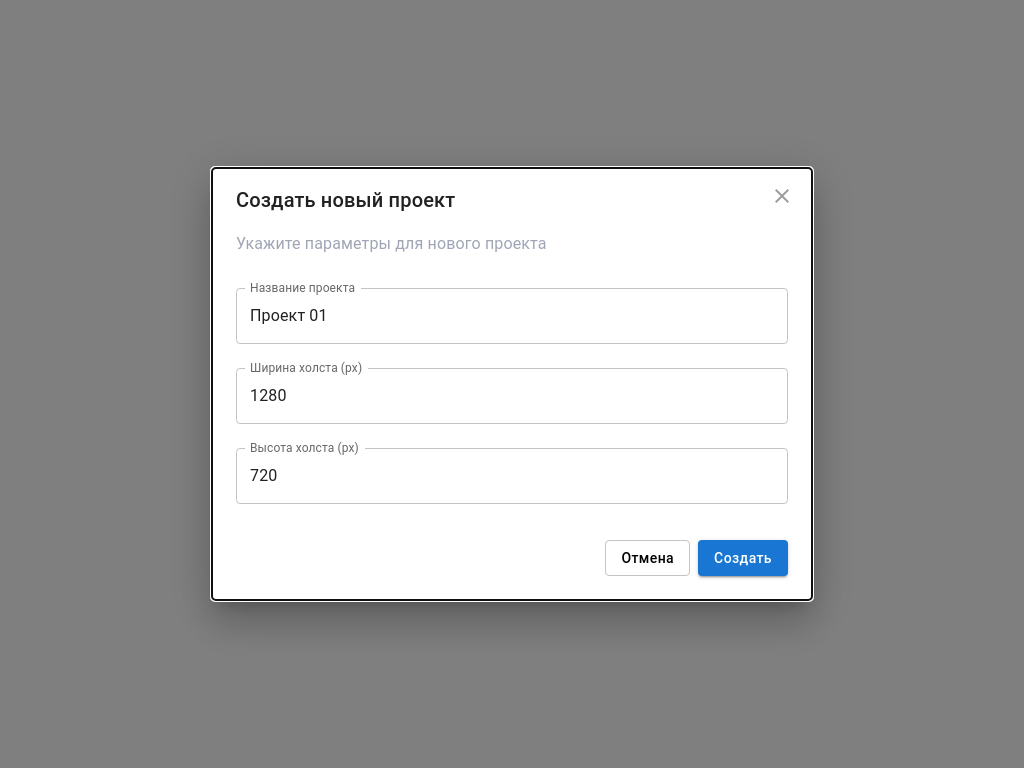
Test: Modal Component - Integration › prevents duplicate project creation with same name
Replace the text in the field labelled "Название проекта" with "Testing" at (512, 316), box x1=236 y1=288 x2=788 y2=344
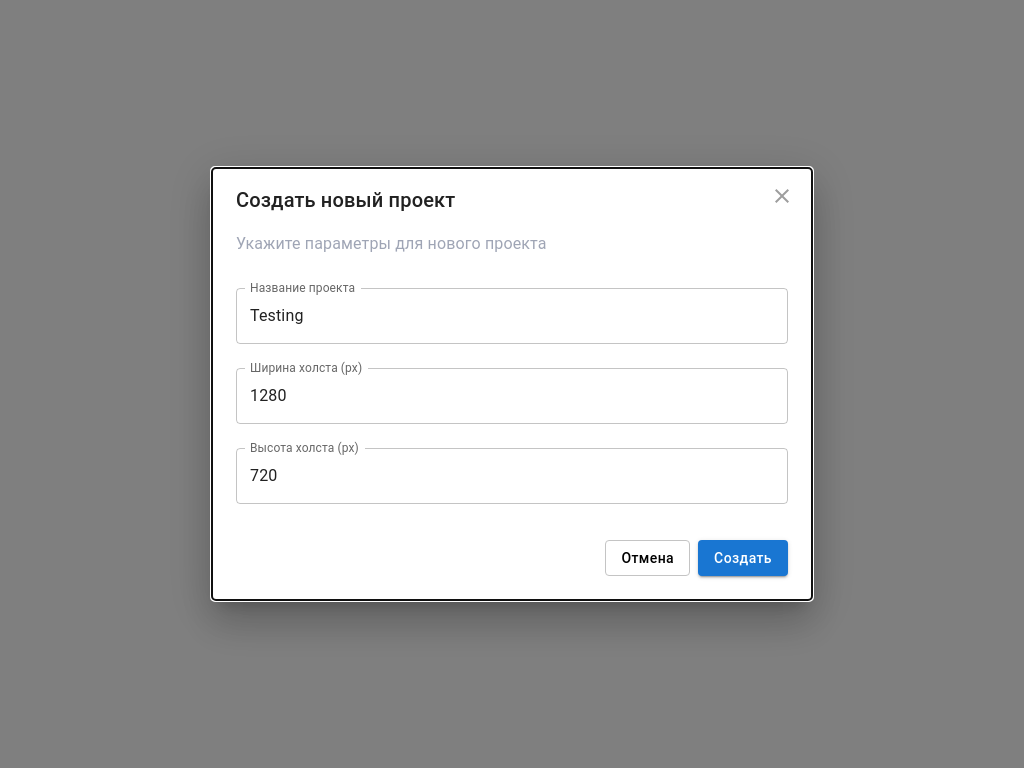
Replace the text in the number field labelled "Ширина холста (px)" with "500" at (512, 396), box x1=236 y1=368 x2=788 y2=424
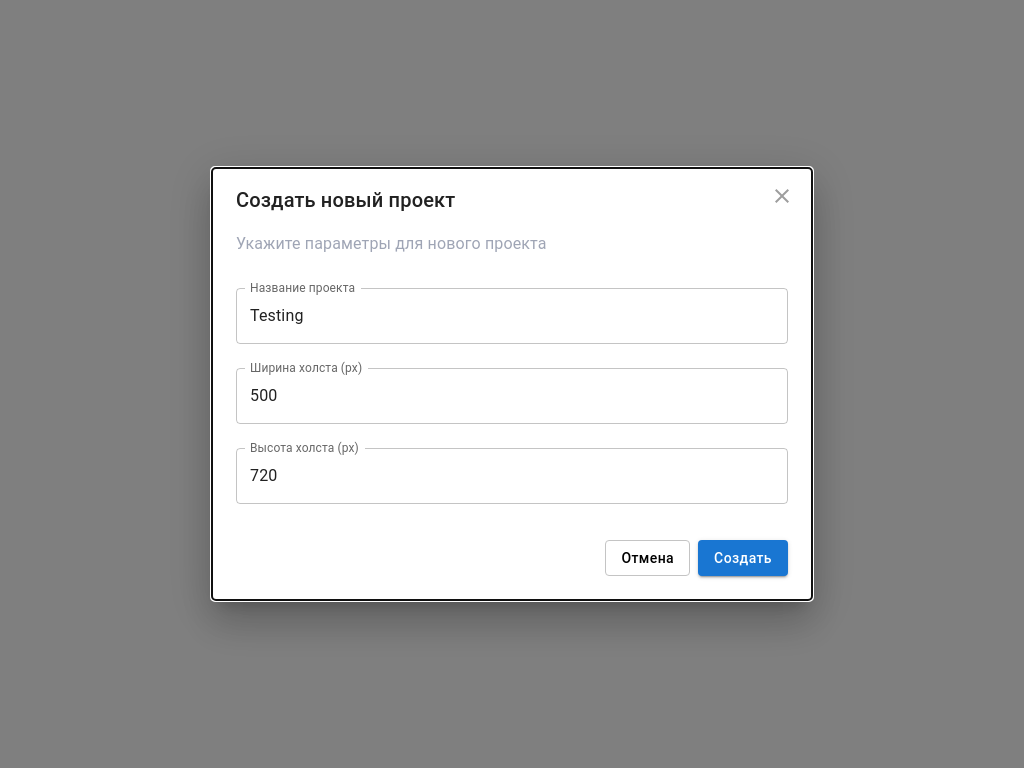
Replace the text in the number field labelled "Высота холста (px)" with "700" at (512, 476), box x1=236 y1=448 x2=788 y2=504
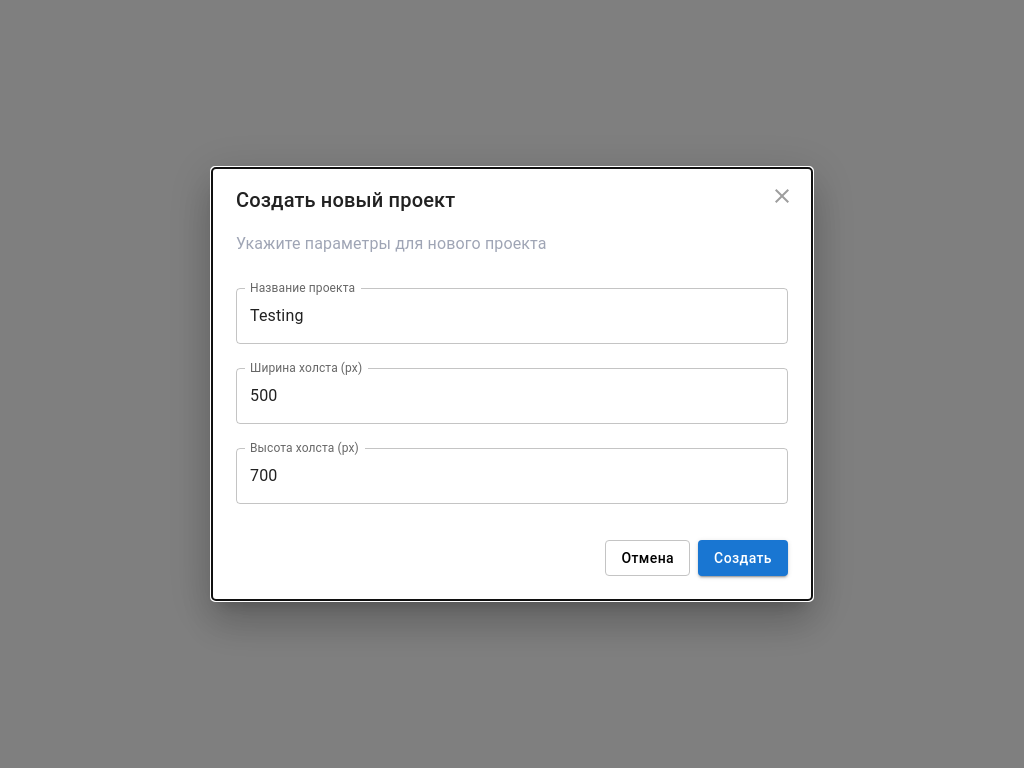
Click the button "Создать" at (743, 558), box x1=698 y1=540 x2=788 y2=576
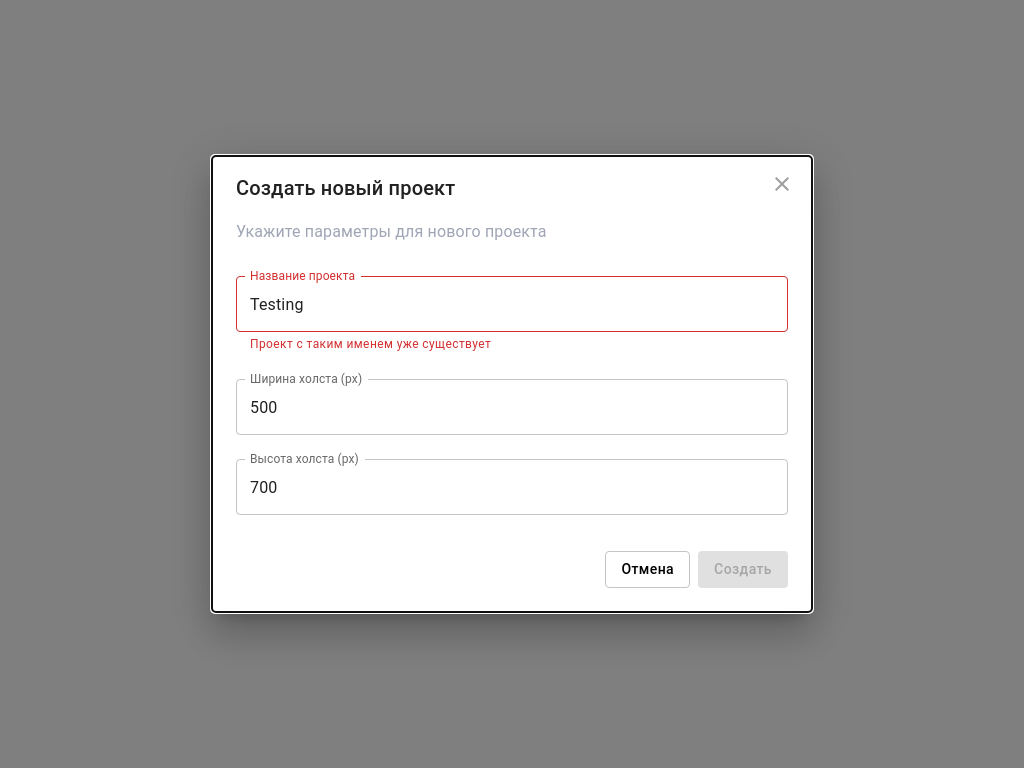
Expected: the text "Проект с таким именем уже существует" is shown, x1=250 y1=337 x2=491 y2=351
Expected: the button "Создать" is disabled, x1=698 y1=551 x2=788 y2=588
